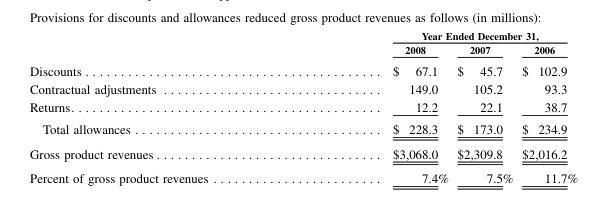table: (28, 28, 577, 184)
table column: (28, 28, 299, 184), (299, 28, 452, 184), (452, 28, 516, 184), (516, 28, 577, 184)
table column header: (28, 28, 577, 59)
table row: (28, 140, 577, 165), (28, 117, 577, 140), (28, 59, 577, 79), (28, 97, 577, 117), (28, 165, 577, 184), (28, 79, 577, 97), (28, 42, 577, 59), (28, 28, 577, 42)
table spanning cell: (299, 28, 577, 42)
